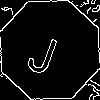J: (25, 25, 64, 77)
